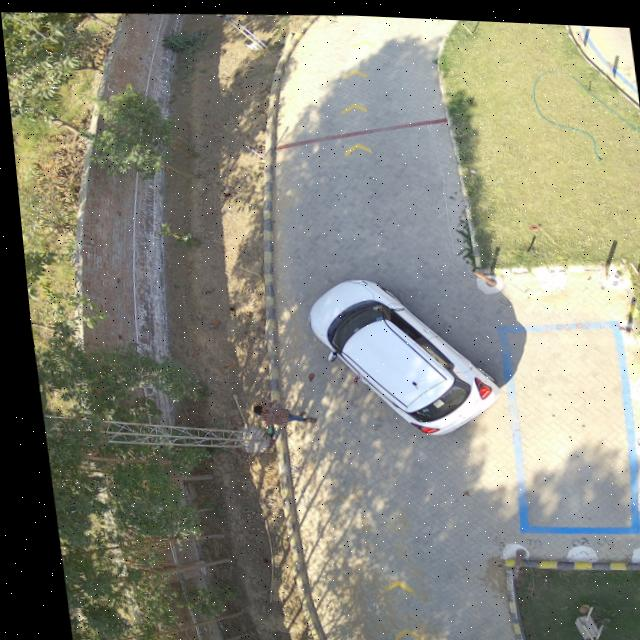car: (303, 275, 491, 430)
